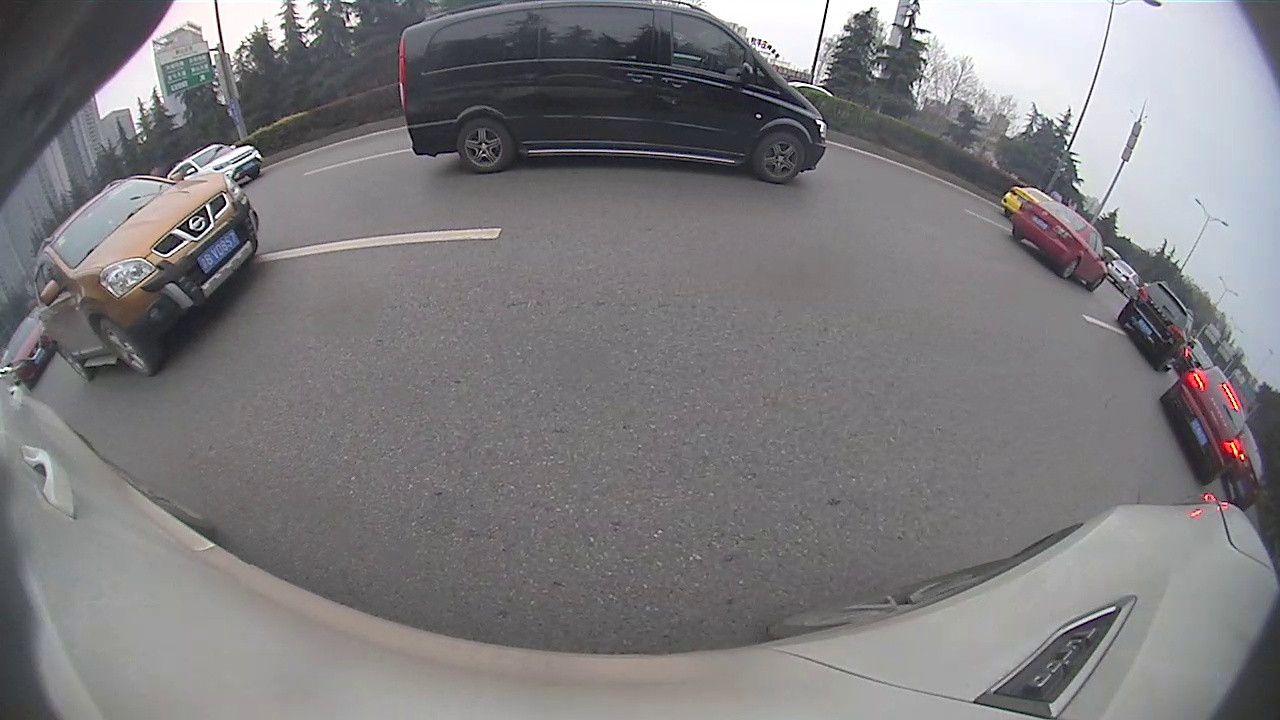car: (395, 7, 826, 184), (32, 175, 259, 378), (1162, 368, 1249, 486), (1018, 198, 1108, 292), (1119, 281, 1196, 370), (164, 146, 262, 190), (6, 322, 51, 384), (1113, 258, 1140, 295)
front: (96, 317, 158, 376), (757, 129, 807, 185)
rear: (455, 119, 512, 174), (55, 340, 92, 378), (1059, 255, 1081, 281)
